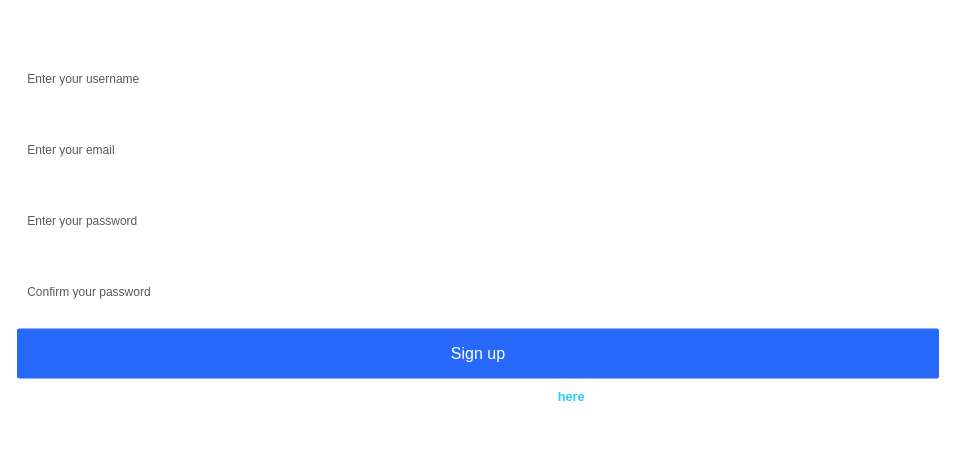
Scenario: signup › invalid confirm password
Type "hihihi" into the password field labelled "password" at (478, 220), box left=17, top=200, right=939, bottom=240
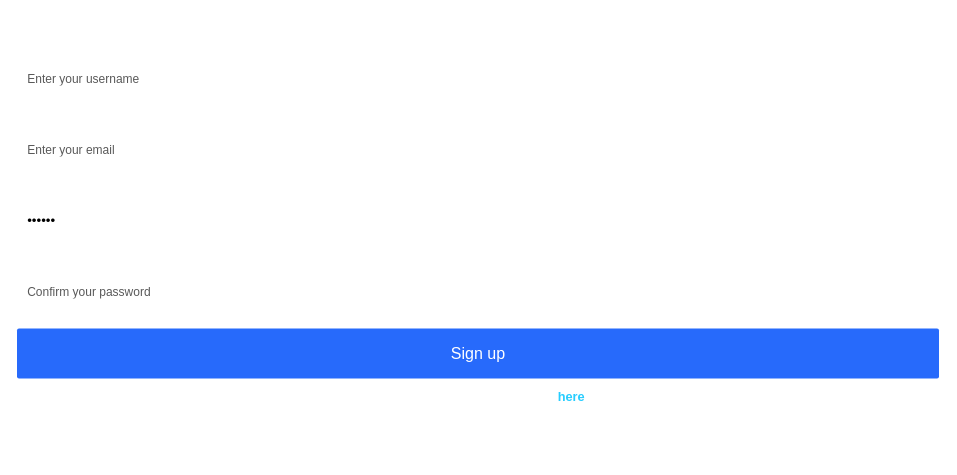
Type "hihih" into the password field named "password2" at (478, 290), box left=17, top=270, right=939, bottom=310
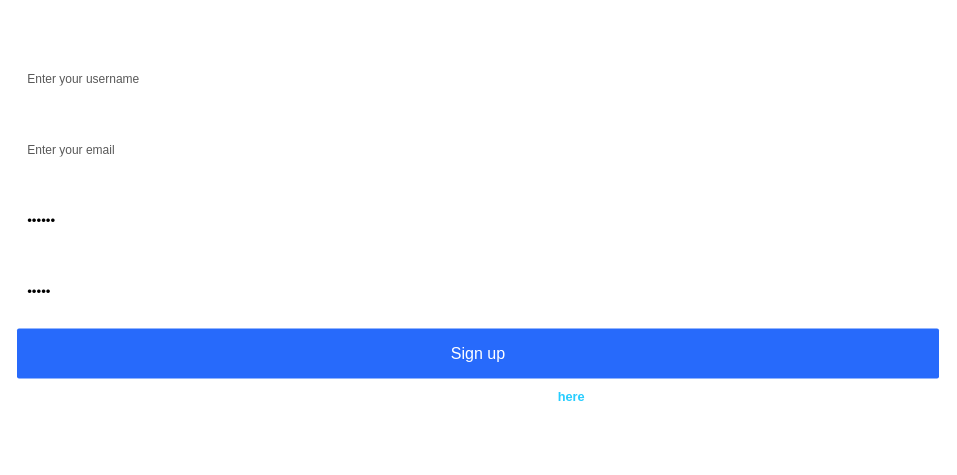
Click the button "Sign up" at (478, 354), box left=17, top=328, right=939, bottom=378
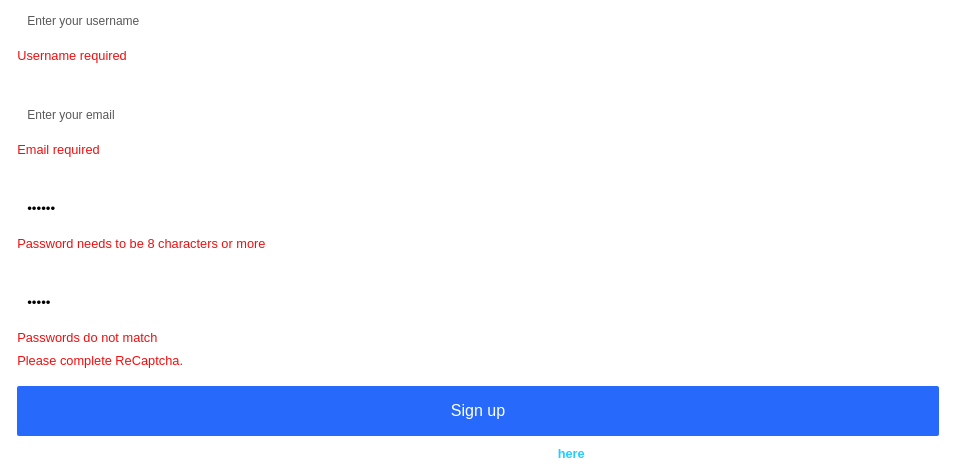
Now the text named "errorICP" reads "Passwords do not match", box left=17, top=330, right=157, bottom=345
